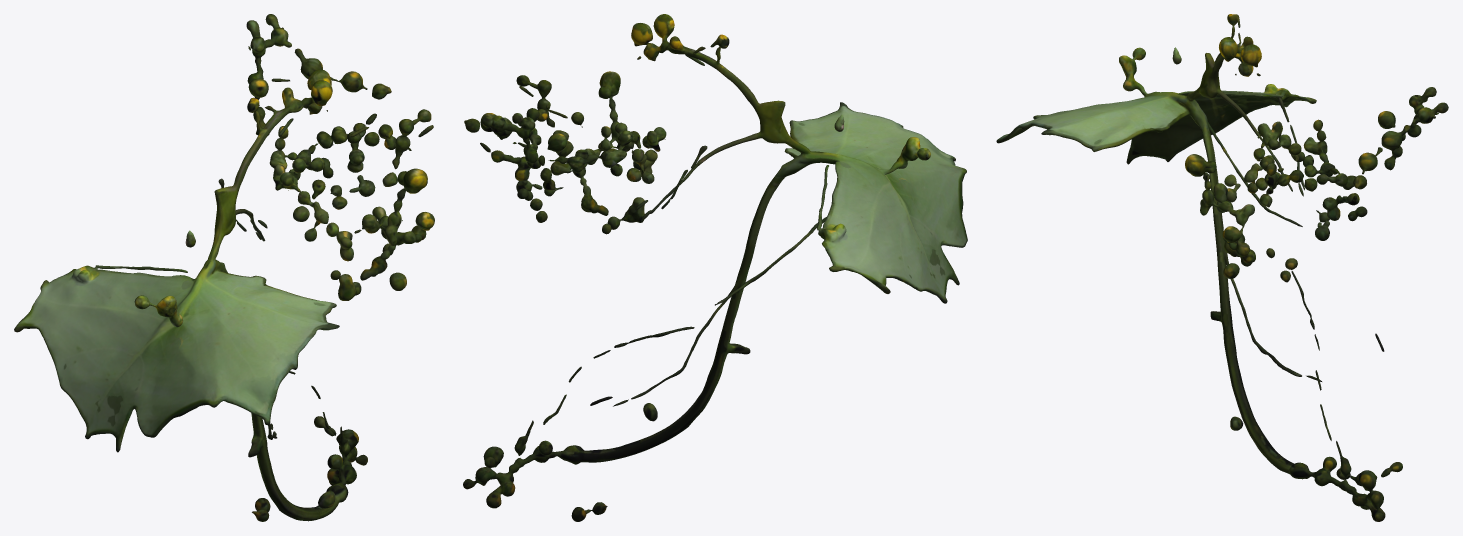
Rendered from herb0006.gltf.
The picture shows the model from 3 angles, left to right: view 1: azimuth 30°, elevation 25°; view 2: azimuth 150°, elevation 25°; view 3: azimuth 270°, elevation 25°; orthographic projection. The views are drawn at different scales.
Visible parts, largest first — view 1: Mesh_0.009; view 2: Mesh_0.009; view 3: Mesh_0.009.
Boxes of the visible parts, x1,y1,x2,y2 form: Mesh_0.009: (14, 14, 434, 521); Mesh_0.009: (463, 14, 967, 521); Mesh_0.009: (996, 14, 1448, 521).
Bounding box in the file's own units: 1.78 × 2 × 1.86.
Materials: 1 (1 with a texture image).
